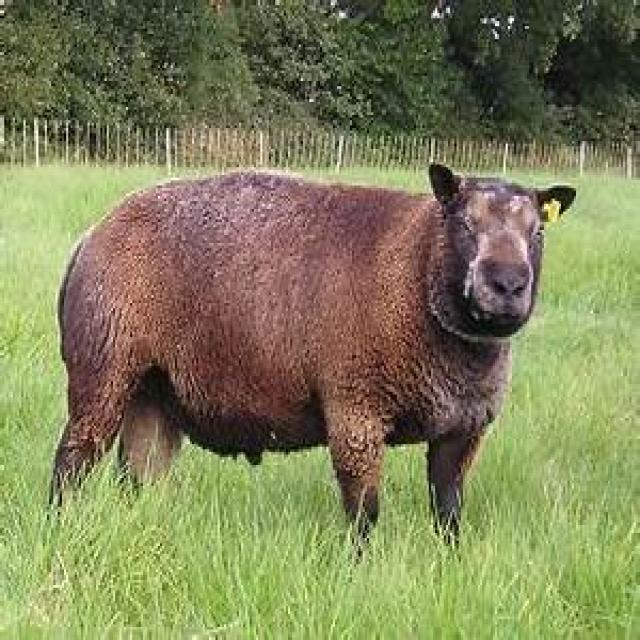sheep: (45, 169, 593, 536)
